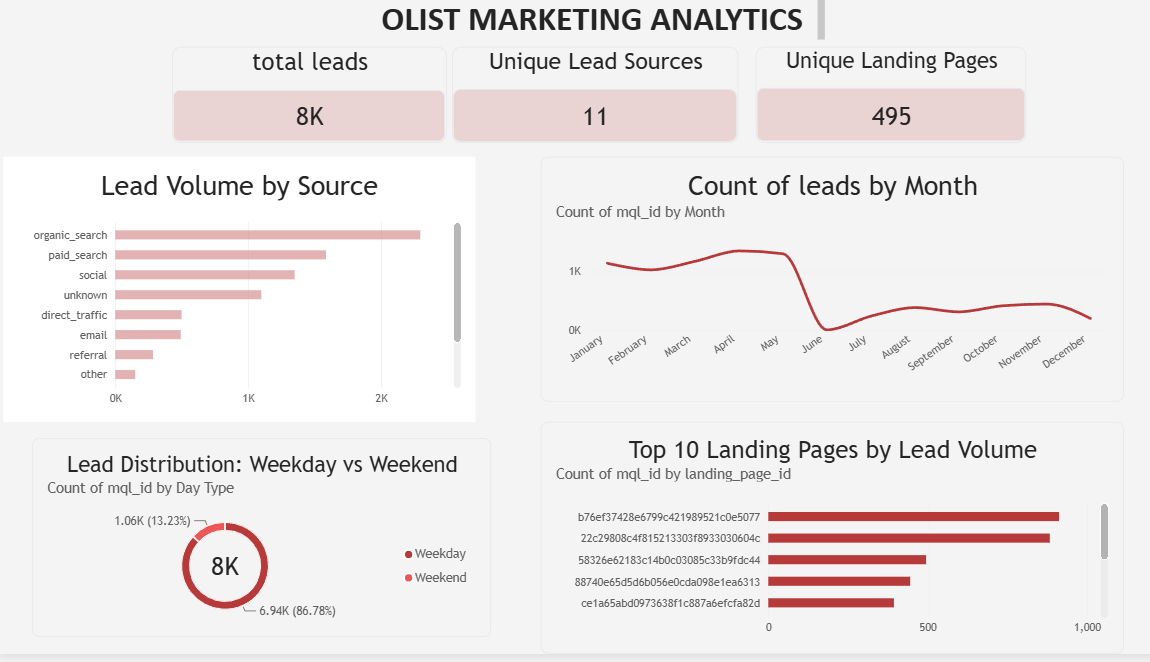

The page's visual inventory and layout, read from the dashboard file:
{"tool":"powerbi","page":{"name":"Overview","canvas":[1280,720],"ordinal":0},"visuals":[{"type":"cardVisual","title":"total leads","fields":{"Data":["CountNonNull(olist_marketing_leads.mql_id)"]},"box":[191.4,52.9,301.4,105.7],"z":0},{"type":"cardVisual","title":"Unique Landing Pages","fields":{"Data":["Count(olist_marketing_leads.landing_page_id)"]},"box":[832.9,52.9,297.1,105.7],"z":1000},{"type":"cardVisual","title":"Unique Lead Sources","fields":{"Data":["Count(olist_marketing_leads.origin)"]},"box":[500,52.9,314.3,105.7],"z":2000},{"type":"clusteredBarChart","title":"Lead Volume by Source","fields":{"Category":["olist_marketing_leads.origin"],"Y":["CountNonNull(olist_marketing_leads.mql_id)"]},"box":[7.1,174.3,518.6,291.4],"z":3000},{"type":"lineChart","title":"Count of leads by Month","fields":{"Category":["olist_marketing_leads.first_contact_date.Variation.Date Hierarchy.Month"],"Y":["CountNonNull(olist_marketing_leads.mql_id)"]},"box":[597.1,174.3,640,268.6],"z":4000},{"type":"donutChart","title":"Lead Distribution: Weekday vs Weekend","fields":{"Y":["CountNonNull(olist_marketing_leads.mql_id)"],"Category":["olist_marketing_leads.Day Type"]},"box":[38.6,482.9,504.3,218.6],"z":5000},{"type":"textbox","box":[404.3,0,504.3,52.9],"z":6000},{"type":"clusteredBarChart","title":"Top 10 Landing Pages by Lead Volume","fields":{"Y":["CountNonNull(olist_marketing_leads.mql_id)"],"Category":["olist_marketing_leads.landing_page_id"]},"box":[597.1,465.7,640,254.3],"z":7000}]}

Visuals, with their boxes in screenshot pixels (x1, y1, x2, y2), scaled from the page's 1280x720 canvas onto the 1150x662 screenshot:
"total leads" cardVisual: {"left": 172, "top": 49, "right": 443, "bottom": 146}
"Unique Landing Pages" cardVisual: {"left": 748, "top": 49, "right": 1015, "bottom": 146}
"Unique Lead Sources" cardVisual: {"left": 449, "top": 49, "right": 732, "bottom": 146}
"Lead Volume by Source" clusteredBarChart: {"left": 6, "top": 160, "right": 472, "bottom": 428}
"Count of leads by Month" lineChart: {"left": 536, "top": 160, "right": 1111, "bottom": 407}
"Lead Distribution: Weekday vs Weekend" donutChart: {"left": 35, "top": 444, "right": 488, "bottom": 645}
textbox: {"left": 363, "top": 0, "right": 816, "bottom": 49}
"Top 10 Landing Pages by Lead Volume" clusteredBarChart: {"left": 536, "top": 428, "right": 1111, "bottom": 661}
